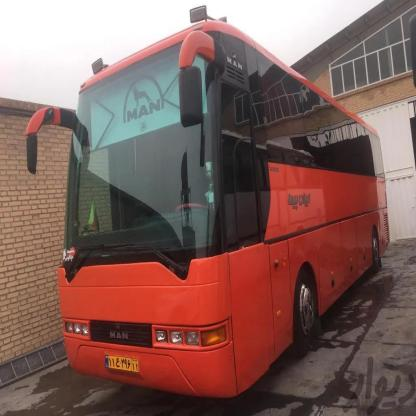Bus: (38, 0, 389, 416)
